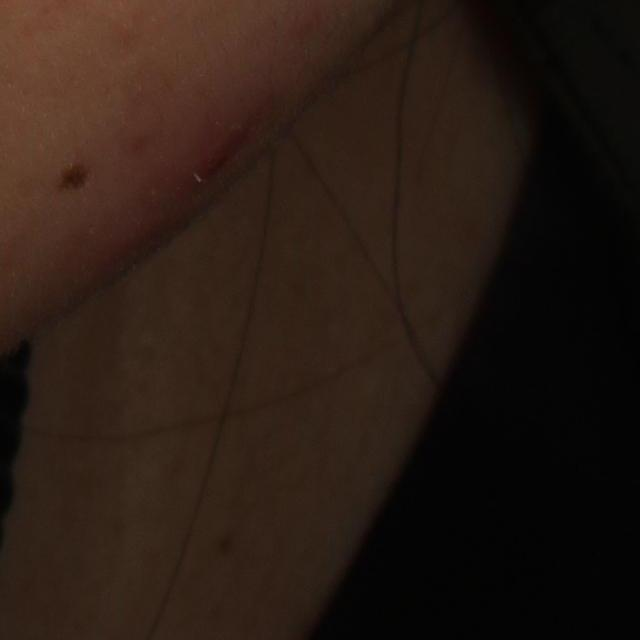nevus: (51, 158, 95, 196)
